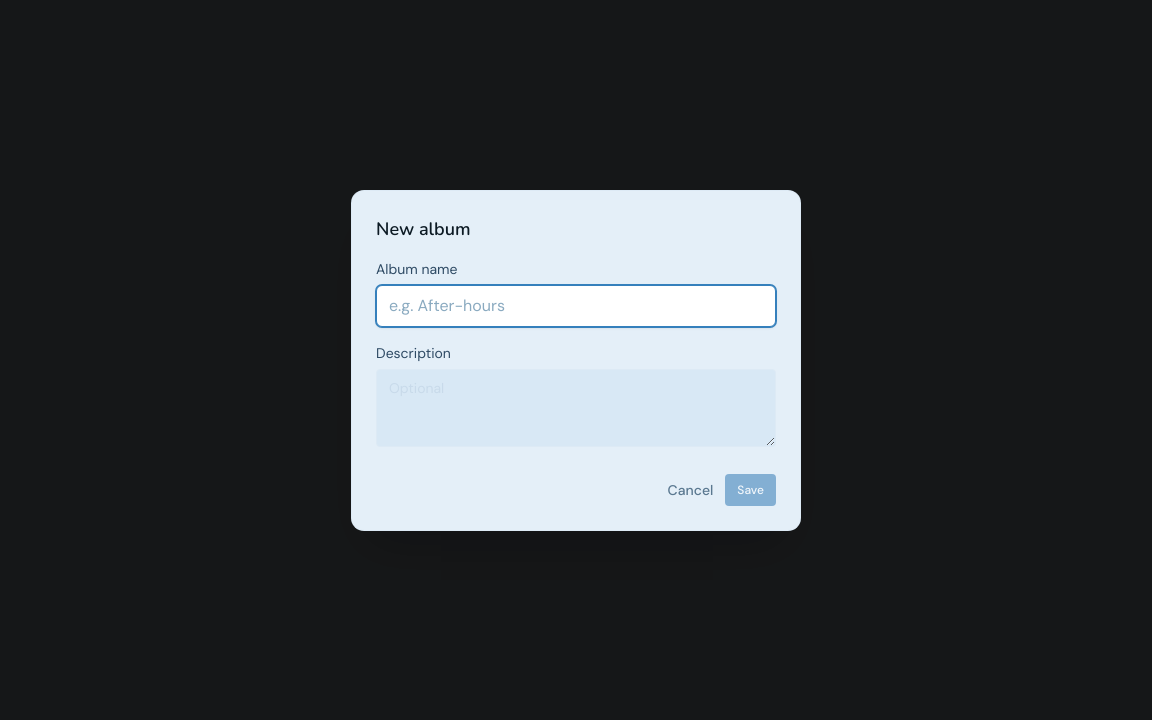
CreateAlbumDialog › disables save until a name is entered
Expected: the button "Save" is disabled, 725,474 -> 776,506
Type "Trip" into the field labelled "Album name" at (576, 306), box 376,284 -> 776,326
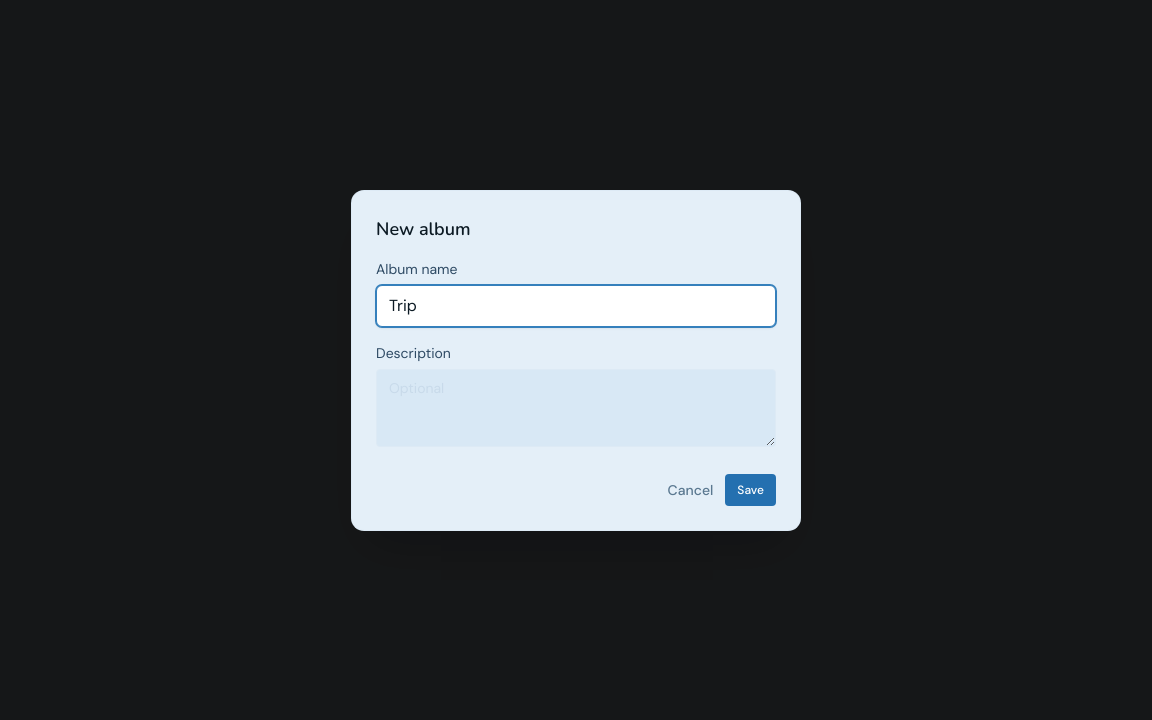
Expected: the button "Save" is enabled, 725,474 -> 776,506
